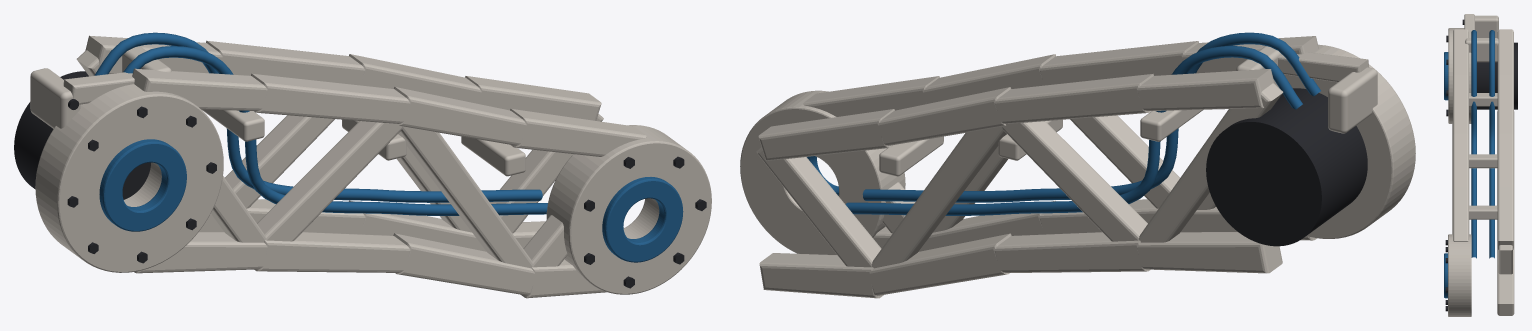
File: anatomy-22.glb
The picture shows the model from 3 angles, left to right: view 1: azimuth 30°, elevation 25°; view 2: azimuth 150°, elevation 25°; view 3: azimuth 270°, elevation 25°; orthographic projection. The views are drawn at different scales.
Parts seen in each view (by area): view 1: rails, ribs, hip, knee, bearings, cables, motor-housing, motor; view 2: rails, ribs, motor, cables, knee, hip, motor-housing; view 3: rails, cables, knee, ribs, motor-housing, motor, hip, bearings.
Boxes of the visible parts, box(x1,y1,x2,y2) form: rails: box(85, 35, 646, 298); ribs: box(76, 50, 603, 268); hip: box(35, 84, 223, 272); knee: box(546, 125, 711, 294); bearings: box(99, 139, 683, 262); cables: box(94, 32, 547, 215); motor-housing: box(30, 46, 171, 128); motor: box(14, 71, 150, 199); rails: box(758, 36, 1318, 298); ribs: box(756, 83, 1283, 268); motor: box(1206, 88, 1367, 246); cables: box(845, 32, 1320, 215); knee: box(740, 90, 905, 254); hip: box(1284, 44, 1415, 238); motor-housing: box(1236, 46, 1377, 133); rails: box(1452, 29, 1514, 315); cables: box(1471, 30, 1494, 258); knee: box(1445, 234, 1471, 316); ribs: box(1469, 93, 1512, 274); motor-housing: box(1462, 14, 1498, 62); motor: box(1477, 42, 1517, 109); hip: box(1446, 28, 1471, 123); bearings: box(1444, 52, 1448, 298).
Size of the model in its own units: 2.86 by 1.42 by 0.558.
